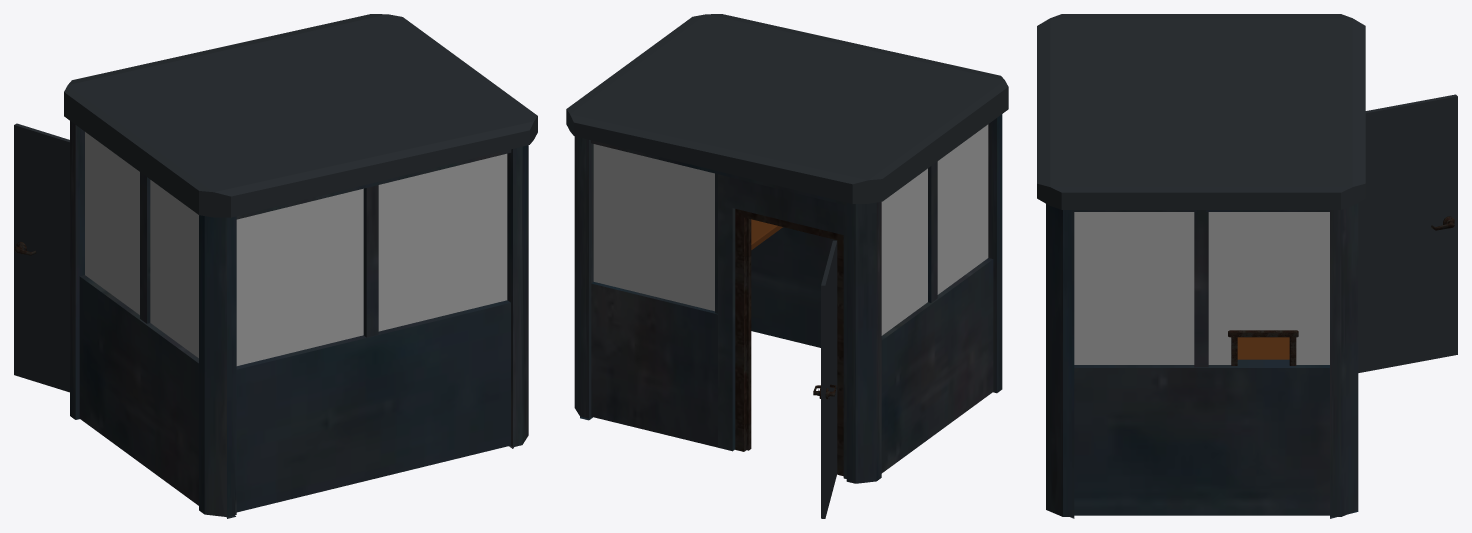
File: security-booth.zfix-v1.lod1.glb
3 views of the same model, side by side, from view 1: azimuth 30°, elevation 25°; view 2: azimuth 150°, elevation 25°; view 3: azimuth 270°, elevation 25° (orthographic). The views are drawn at different scales.
Visible parts, largest first — view 1: Object_5, Object_8; view 2: Object_5, Object_8, Object_4; view 3: Object_5, Object_8, Object_4.
Boxes of the visible parts, x1,y1,x2,y2 form: Object_5: (14, 14, 537, 392); Object_8: (70, 121, 528, 518); Object_5: (566, 14, 1008, 518); Object_8: (574, 114, 1002, 483); Object_4: (735, 209, 843, 476); Object_5: (1037, 14, 1457, 372); Object_8: (1046, 203, 1358, 518); Object_4: (1228, 216, 1454, 365).
Size of the model in its own units: 2.88 by 2.67 by 3.
3 materials, 2 textured.
